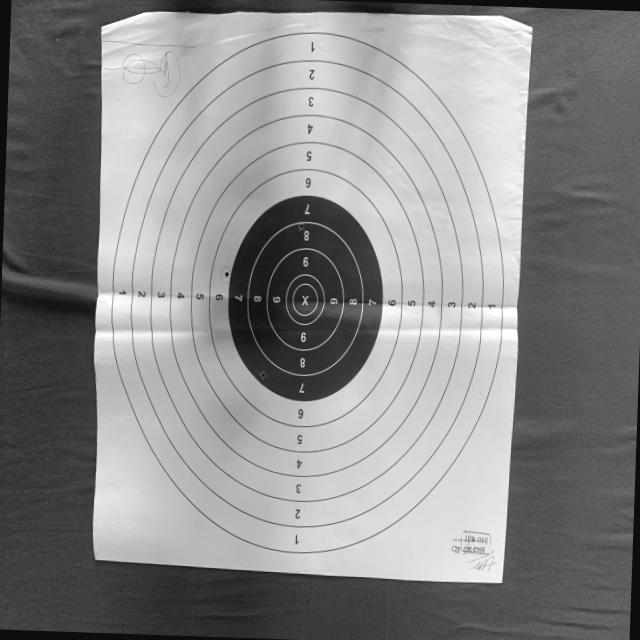bullet: (260, 372, 266, 379), (224, 269, 229, 277), (299, 224, 303, 230)
target: (93, 12, 532, 582)
